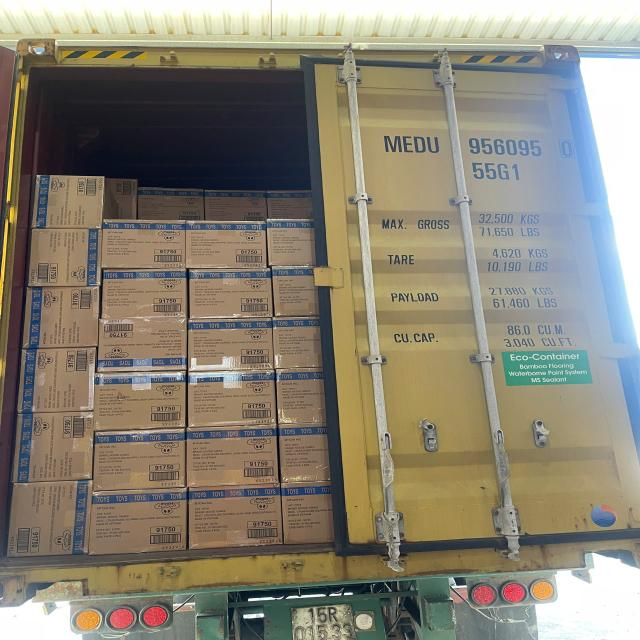Carton: (90, 492, 190, 557), (187, 431, 279, 491), (189, 492, 282, 551), (96, 372, 188, 431), (10, 483, 83, 557), (15, 412, 90, 482), (188, 371, 278, 427), (97, 319, 188, 374), (94, 442, 187, 494), (19, 349, 92, 414), (26, 290, 101, 352), (29, 171, 109, 229), (103, 271, 190, 322), (27, 232, 99, 292), (188, 324, 275, 373), (189, 272, 273, 322), (187, 227, 270, 274), (104, 229, 188, 274), (281, 486, 335, 546), (278, 425, 330, 484), (276, 376, 326, 425), (272, 268, 319, 318), (273, 324, 322, 370), (268, 226, 315, 266)
